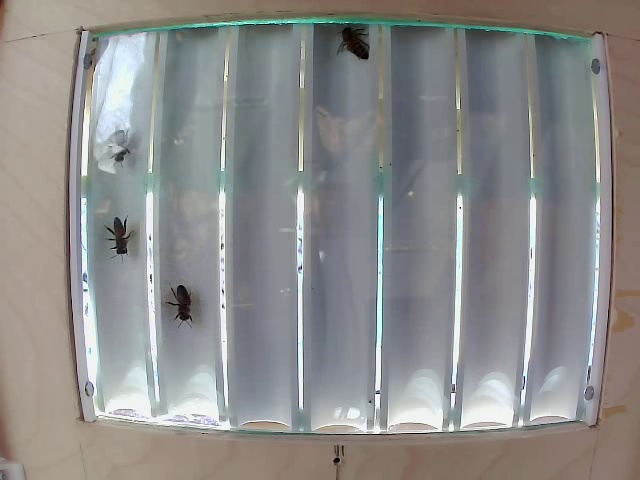bee: (154, 270, 201, 329), (100, 214, 147, 272), (332, 20, 378, 75), (98, 120, 148, 170)
